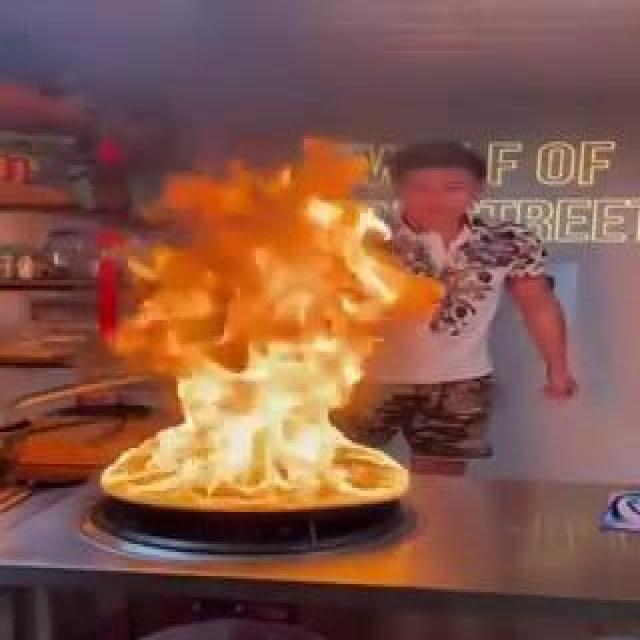Fire: (72, 158, 412, 518)
